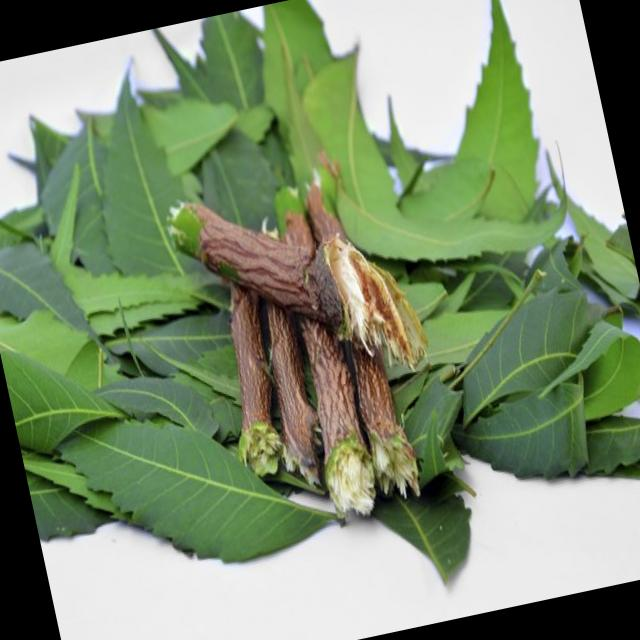Medicinal-Neem: (0, 67, 293, 604), (378, 74, 640, 531), (109, 0, 389, 213)
